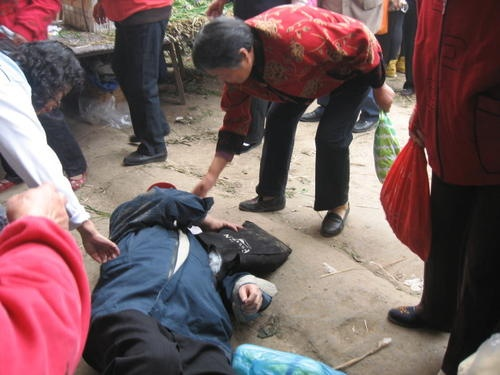falling: (72, 165, 315, 375)
